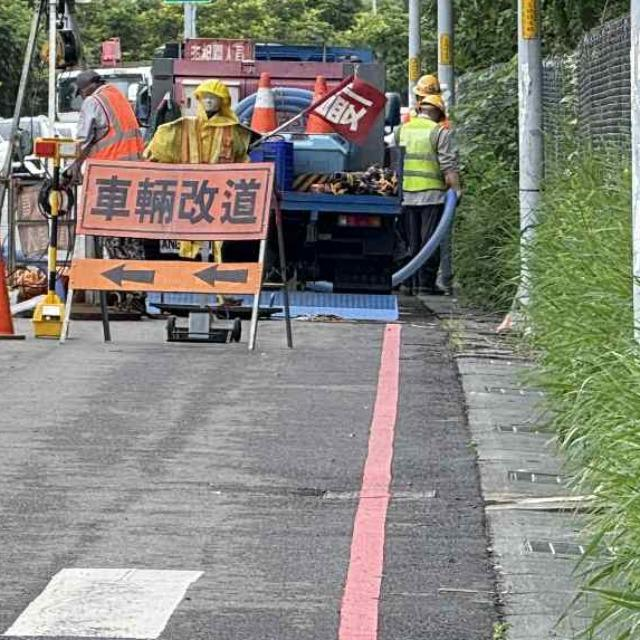Vest: (396, 117, 456, 201)
